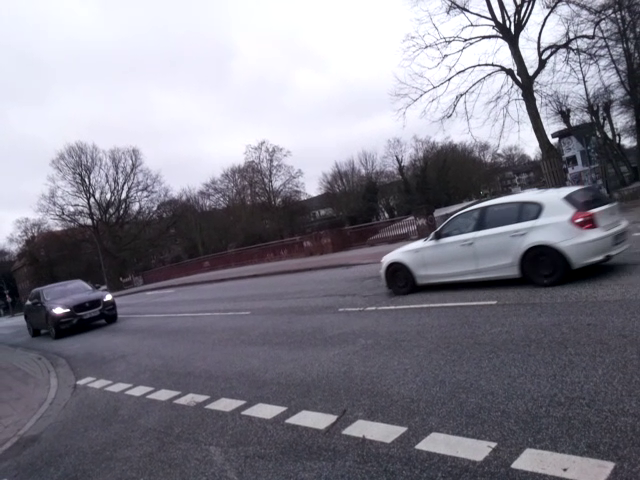car: (375, 176, 631, 316), (21, 270, 122, 349)
